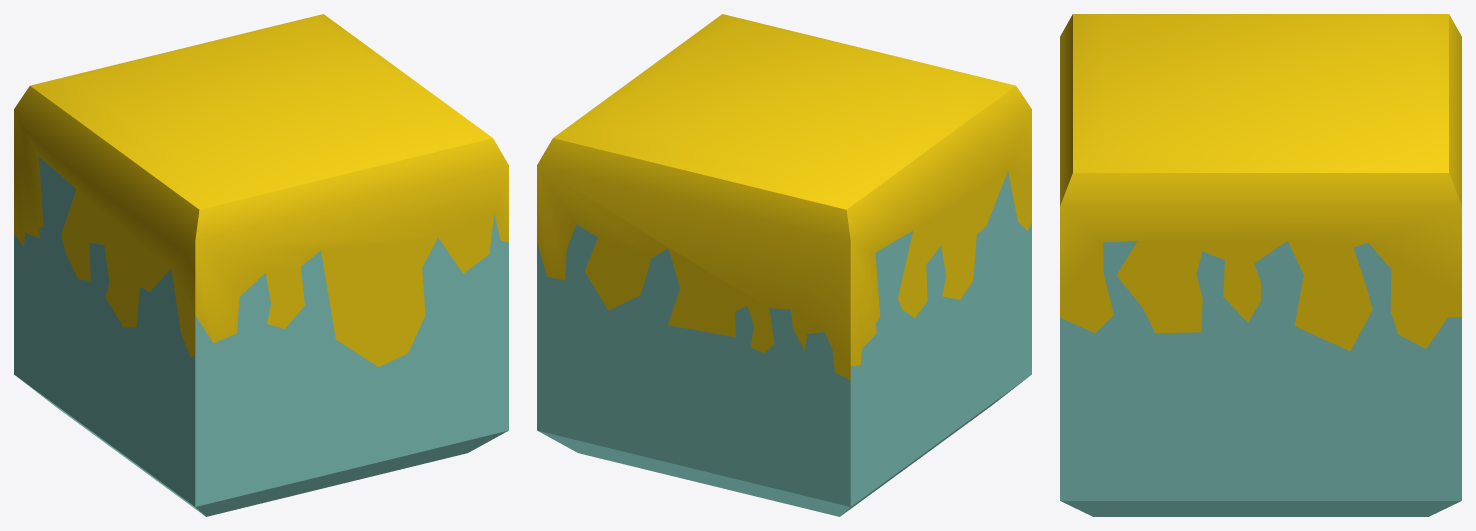
File: Anit_walk.fbx
3 renders of one model, left to right at view 1: azimuth 30°, elevation 25°; view 2: azimuth 150°, elevation 25°; view 3: azimuth 270°, elevation 25°, orthographic. The views are drawn at different scales.
Parts seen in each view (by area): view 1: Cube.133; view 2: Cube.133; view 3: Cube.133.
Boxes of the visible parts, x1,y1,x2,y2 form: Cube.133: (14,14,508,516); Cube.133: (537,14,1031,516); Cube.133: (1060,14,1461,516).
Bounding box in the file's own units: 100 × 100 × 100.
